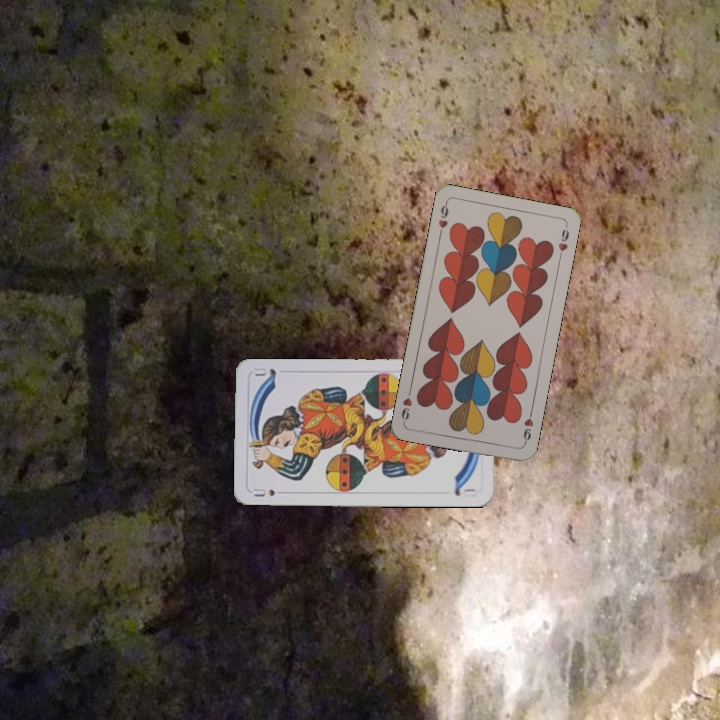H9: (434, 199, 451, 239), (519, 407, 536, 447)
SU: (249, 484, 277, 499)
